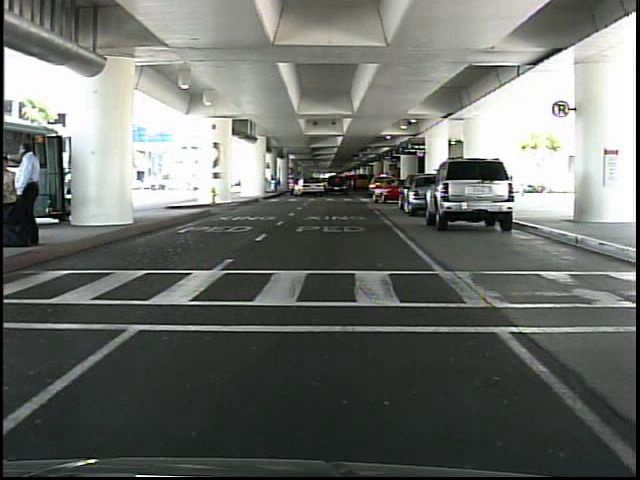person: (17, 145, 49, 245)
